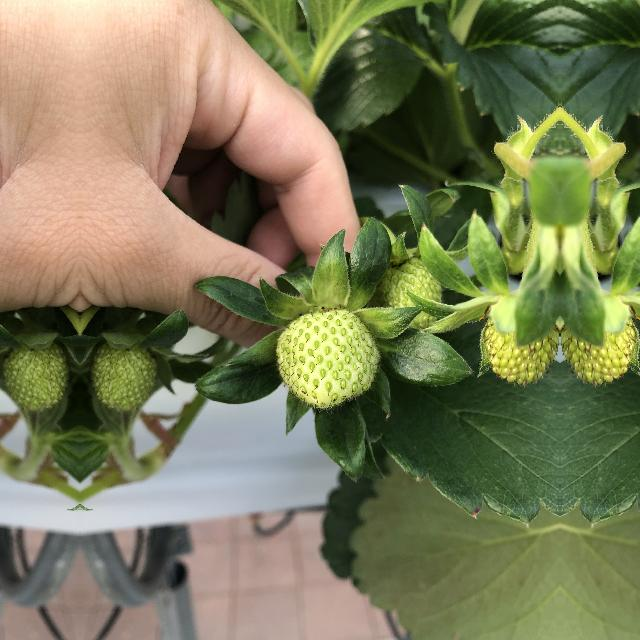Health_25: (264, 296, 390, 412)
